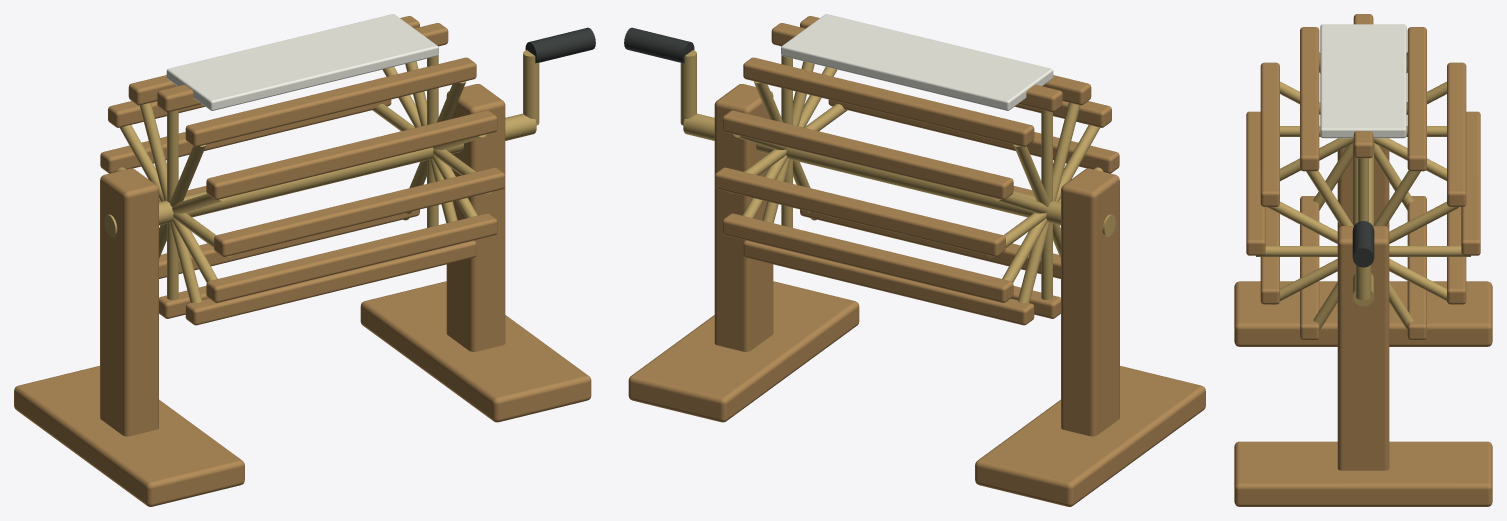
File: abandoned-puppet-theatre-and-prop-vault-wind-effects-d-f09f6a95__31073.glb
The picture shows the model from 3 angles, left to right: view 1: azimuth 30°, elevation 25°; view 2: azimuth 150°, elevation 25°; view 3: azimuth 270°, elevation 25°; orthographic projection. The views are drawn at different scales.
Visible parts, largest first — view 1: wind-effects-drum; view 2: wind-effects-drum; view 3: wind-effects-drum.
Boxes of the visible parts, bbox=[...] form: wind-effects-drum: bbox=[14, 14, 595, 506]; wind-effects-drum: bbox=[624, 14, 1205, 506]; wind-effects-drum: bbox=[1234, 14, 1492, 506].
Size of the model in its own units: 1.3 by 0.845 by 0.6.
